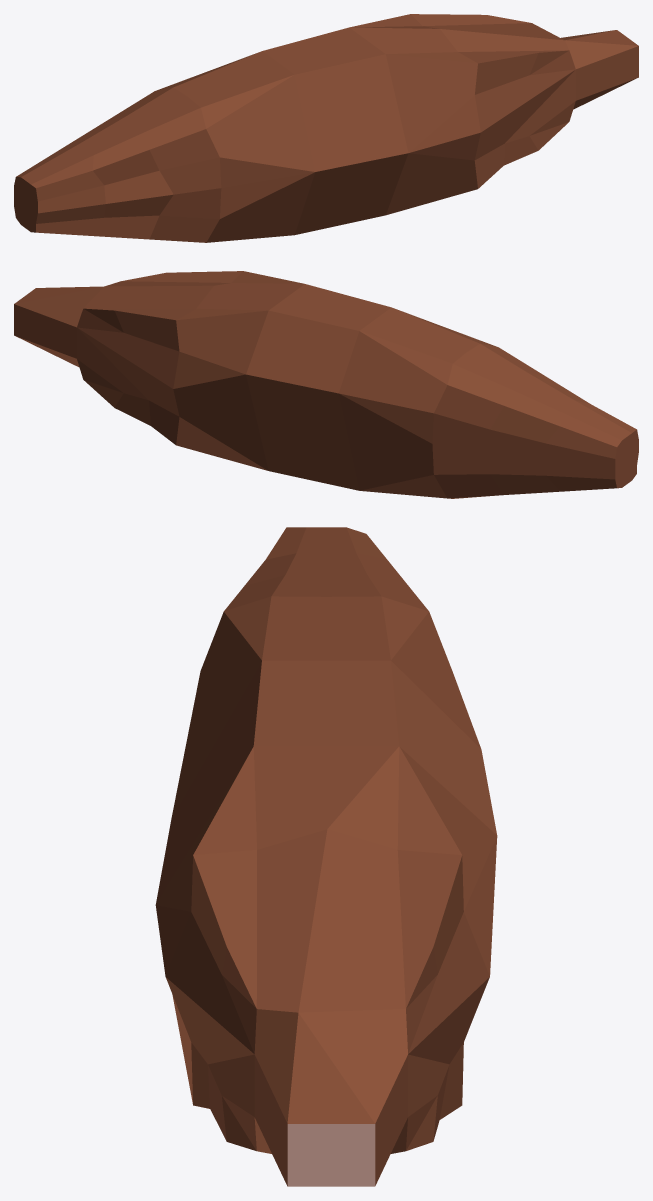
File: Yucca root v2.fbx
3 renders of one model, top to bottom at view 1: azimuth 30°, elevation 25°; view 2: azimuth 150°, elevation 25°; view 3: azimuth 270°, elevation 25°, orthographic. The views are drawn at different scales.
Visible parts, largest first — view 1: pCube1; view 2: pCube1; view 3: pCube1.
Part boxes in pixels (x1,y1,x2,y2): pCube1: (14,14,638,242); pCube1: (14,271,638,498); pCube1: (155,527,497,1186).
Size of the model in its own units: 3.51 by 0.8951 by 0.8628.
